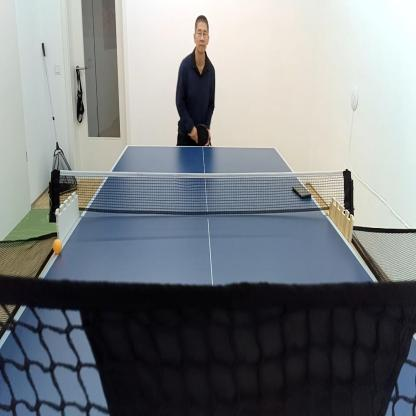Ball: (52, 237, 63, 256)
